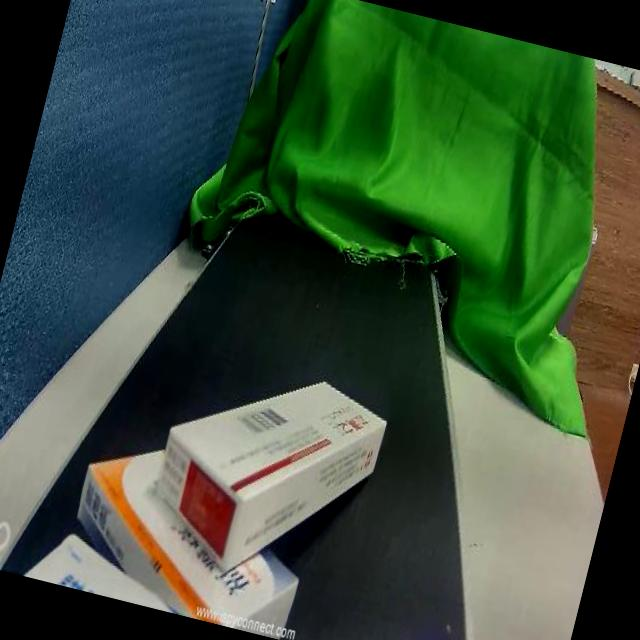box: (150, 338, 393, 588), (49, 437, 283, 626)
